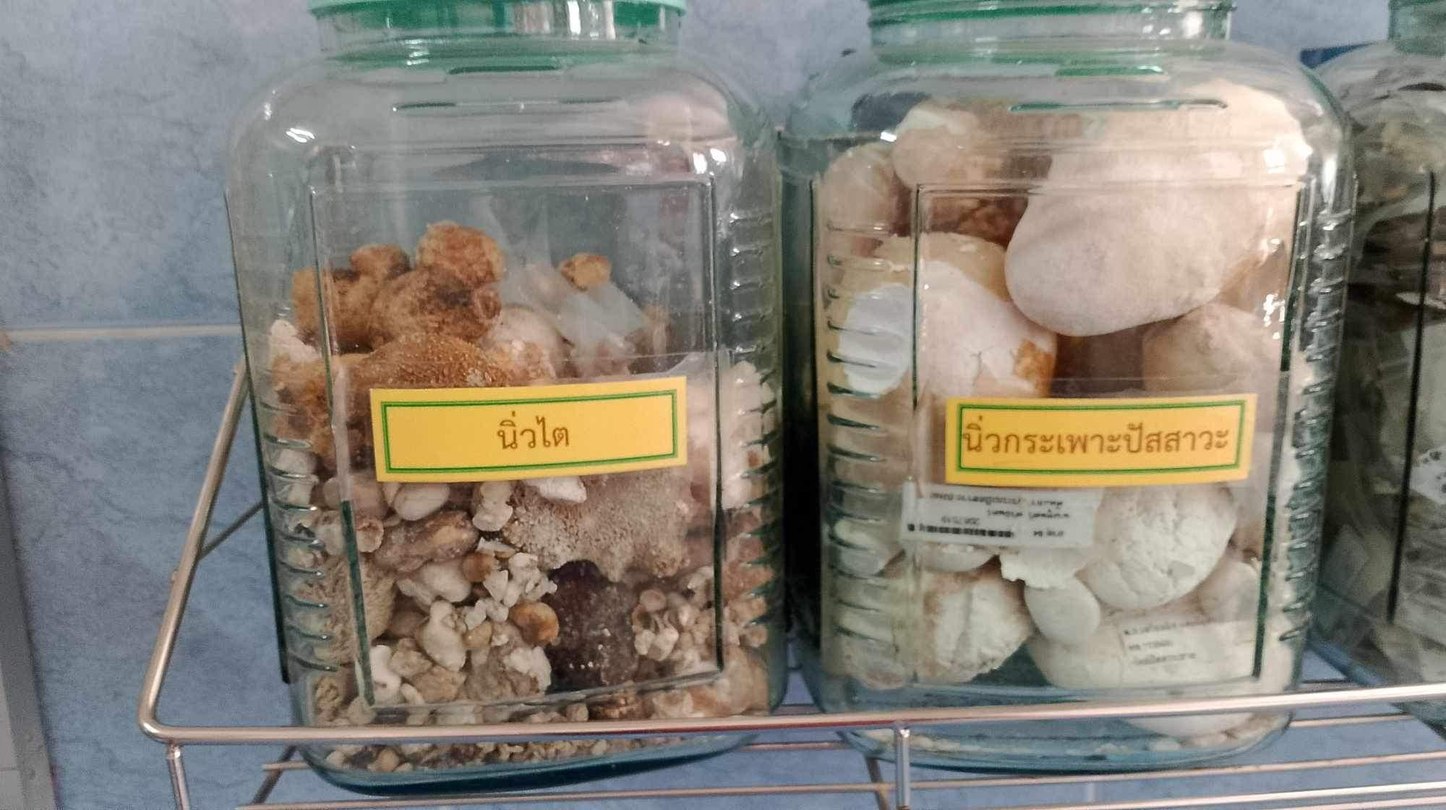General: (138, 4, 1428, 803)
Pathological: (222, 13, 788, 775), (797, 30, 1356, 763)
